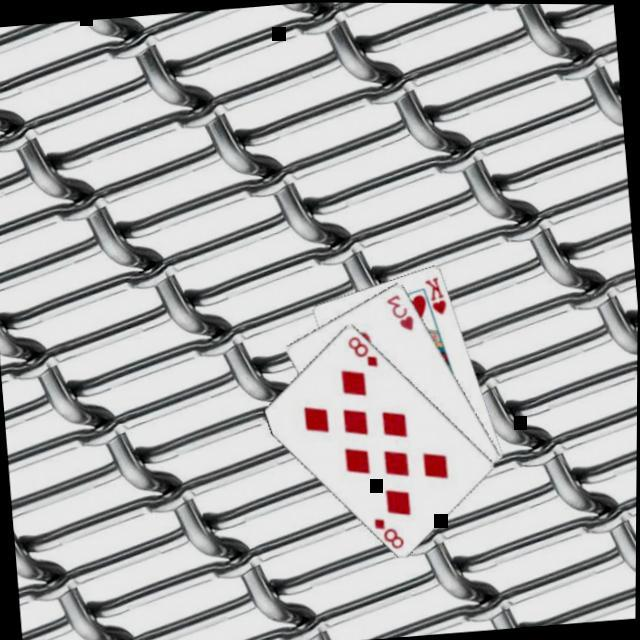3H: (382, 291, 416, 335)
8D: (344, 332, 381, 374), (370, 514, 407, 554)
KH: (420, 273, 450, 319)
